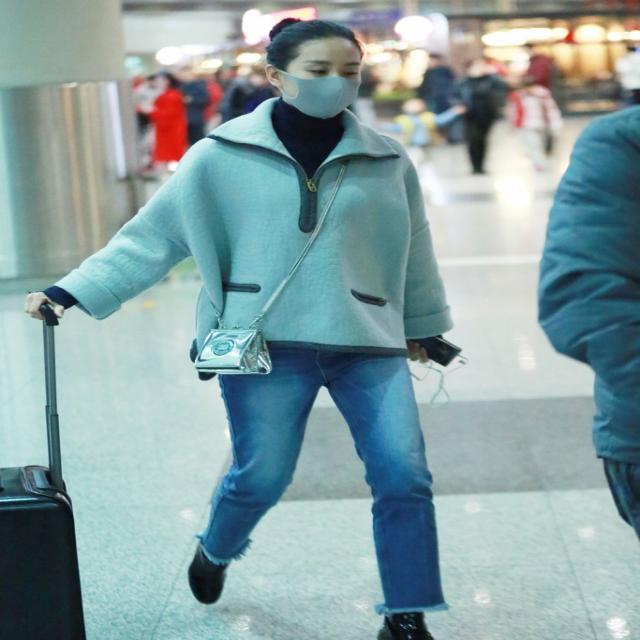mask: (286, 38, 360, 120)
